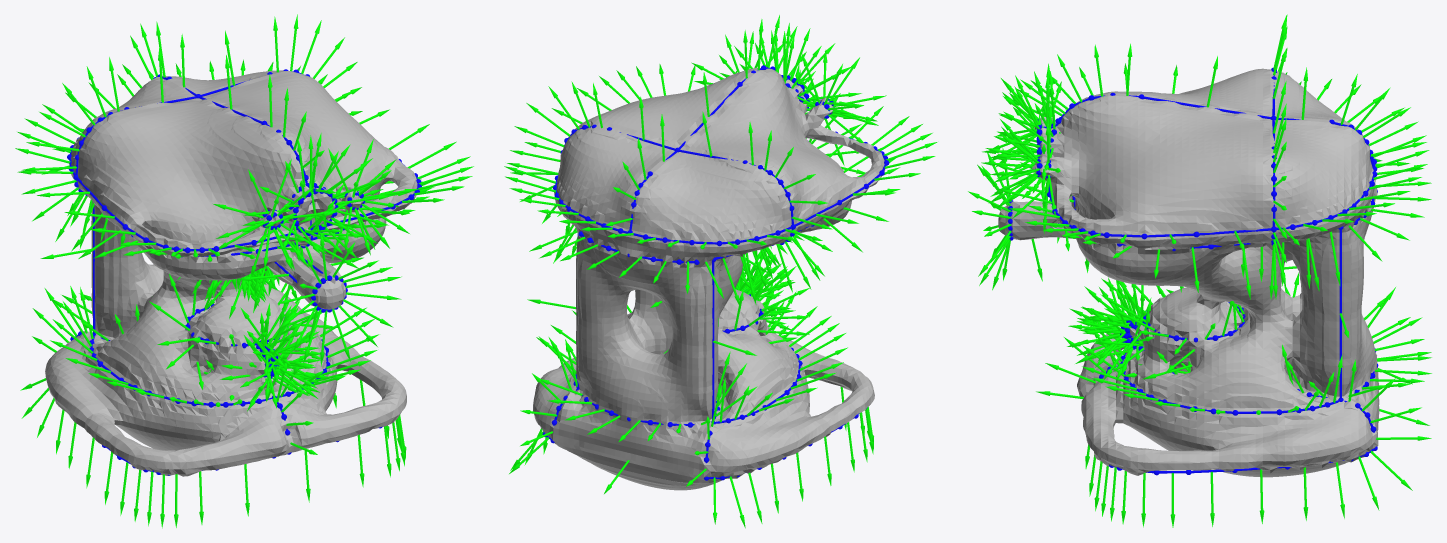
Rendered from flowsurf_expresso.gltf.
3 renders of one model, left to right at view 1: azimuth 30°, elevation 25°; view 2: azimuth 150°, elevation 25°; view 3: azimuth 270°, elevation 25°, orthographic. The views are drawn at different scales.
Bounding box in the file's own units: 0.7159 × 0.7855 × 0.7848.
